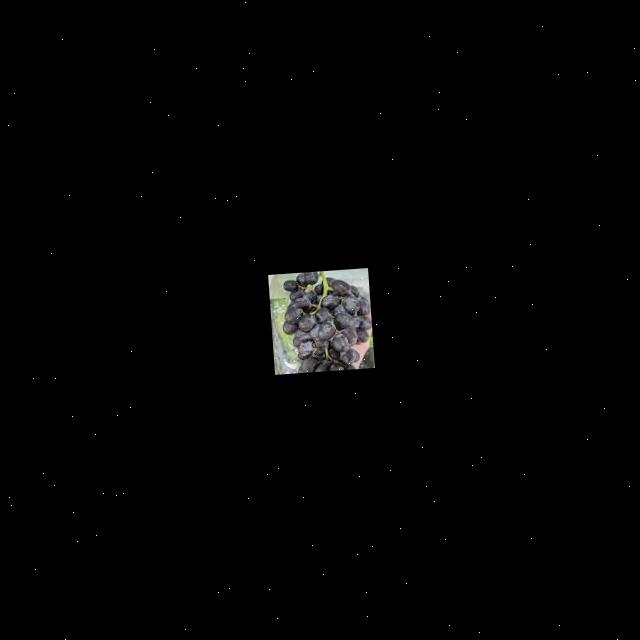grape: (277, 266, 373, 372)
